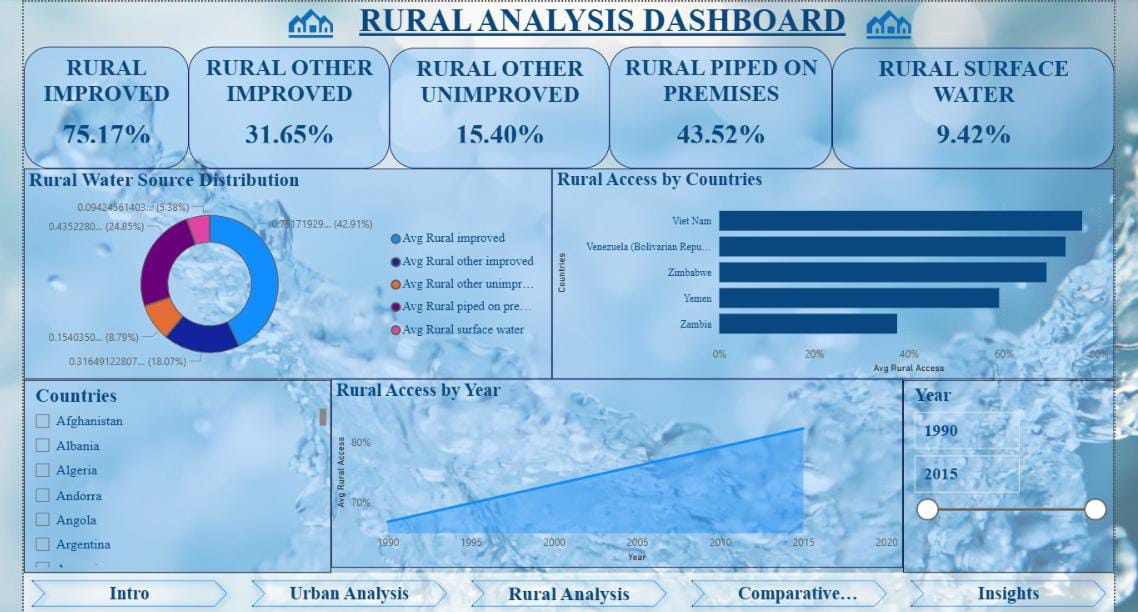

This screenshot's page, from the dashboard's own definition file:
{"tool":"powerbi","page":{"name":"Rural Analysis","canvas":[1280,720],"ordinal":2},"visuals":[{"type":"cardVisual","title":" RURAL IMPROVED","fields":{"Data":["Drinking Water Analysis Table.Avg Rural improved"]},"box":[0,52.6,193.2,143.1],"z":0},{"type":"cardVisual","title":" RURAL OTHER IMPROVED","fields":{"Data":["Drinking Water Analysis Table.Avg Rural other improved"]},"box":[193.2,52.6,236,143.1],"z":1000},{"type":"cardVisual","title":" RURAL OTHER UNIMPROVED","fields":{"Data":["Drinking Water Analysis Table.Avg Rural other unimproved"]},"box":[429.2,53.8,258,141.8],"z":2000},{"type":"cardVisual","title":"RURAL PIPED ON PREMISES","fields":{"Data":["Drinking Water Analysis Table.Avg Rural piped on premises"]},"box":[687.2,52.6,261.7,143.1],"z":3000},{"type":"cardVisual","title":"RURAL SURFACE WATER","fields":{"Data":["Drinking Water Analysis Table.Avg Rural surface water"]},"box":[948.9,53.8,331.4,141.8],"z":4000},{"type":"donutChart","title":"Rural Water Source Distribution","fields":{"Y":["Drinking Water Analysis Table.Avg Rural improved","Drinking Water Analysis Table.Avg Rural other improved","Drinking Water Analysis Table.Avg Rural other unimproved","Drinking Water Analysis Table.Avg Rural piped on premises","Drinking Water Analysis Table.Avg Rural surface water"]},"box":[0,195.7,620,247],"z":5000},{"type":"clusteredBarChart","title":"Rural Access by Countries","fields":{"Category":["Drinking Water Analysis Table.Countries and areas"],"Y":["Drinking Water Analysis Table.Avg Rural Access"]},"box":[620,195.7,660.3,247],"z":6000},{"type":"textbox","title":"RURAL ANALYSIS DASHBOARD","box":[303.3,0,752,52.1],"z":7000},{"type":"image","box":[284,0,107,52.1],"z":8000},{"type":"image","box":[961.9,1.4,107,52.1],"z":9000},{"type":"stackedAreaChart","title":" Rural Access by Year","fields":{"Category":["Drinking Water Analysis Table.Year"],"Y":["Drinking Water Analysis Table.Avg Rural Access"]},"box":[360.7,442.7,671.3,221.3],"z":10000},{"type":"pageNavigator","box":[0,669.8,1280.3,49.9],"z":11000},{"type":"slicer","fields":{"Values":["Drinking Water Analysis Table.Year"]},"box":[1032.1,443.9,248.2,226.2],"z":12000},{"type":"slicer","fields":{"Values":["Drinking Water Analysis Table.Countries"]},"box":[0,443.9,360.7,226.2],"z":13000}]}

Visuals, with their boxes on the page's 1280x720 design canvas (x1, y1, x2, y2). These are canvas units, not pixel positions in the 1138x612 screenshot, which may show the page scaled, cropped or inside an application window:
" RURAL IMPROVED" cardVisual: [x1=0, y1=53, x2=193, y2=196]
" RURAL OTHER IMPROVED" cardVisual: [x1=193, y1=53, x2=429, y2=196]
" RURAL OTHER UNIMPROVED" cardVisual: [x1=429, y1=54, x2=687, y2=196]
"RURAL PIPED ON PREMISES" cardVisual: [x1=687, y1=53, x2=949, y2=196]
"RURAL SURFACE WATER" cardVisual: [x1=949, y1=54, x2=1280, y2=196]
"Rural Water Source Distribution" donutChart: [x1=0, y1=196, x2=620, y2=443]
"Rural Access by Countries" clusteredBarChart: [x1=620, y1=196, x2=1280, y2=443]
"RURAL ANALYSIS DASHBOARD" textbox: [x1=303, y1=0, x2=1055, y2=52]
image: [x1=284, y1=0, x2=391, y2=52]
image: [x1=962, y1=1, x2=1069, y2=54]
" Rural Access by Year" stackedAreaChart: [x1=361, y1=443, x2=1032, y2=664]
pageNavigator: [x1=0, y1=670, x2=1280, y2=720]
slicer - Drinking Water Analysis Table.Year: [x1=1032, y1=444, x2=1280, y2=670]
slicer - Drinking Water Analysis Table.Countries: [x1=0, y1=444, x2=361, y2=670]
